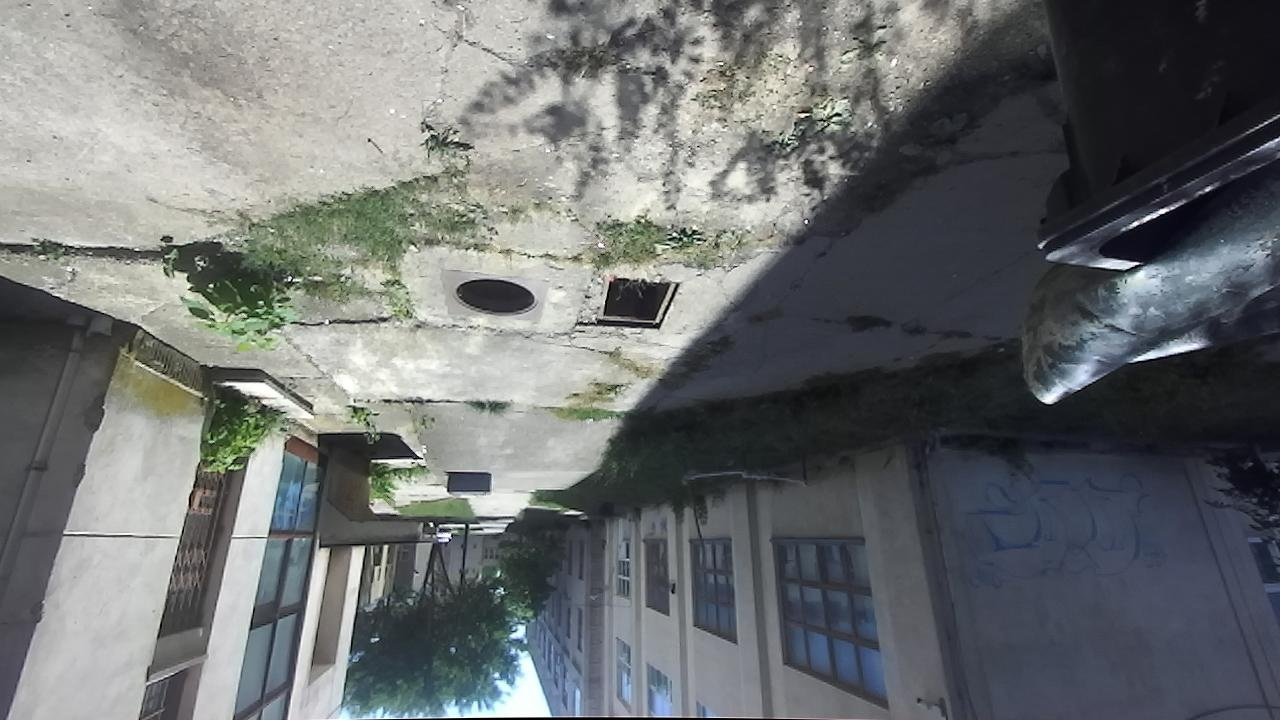drain: (571, 280, 682, 328), (445, 278, 540, 318)
